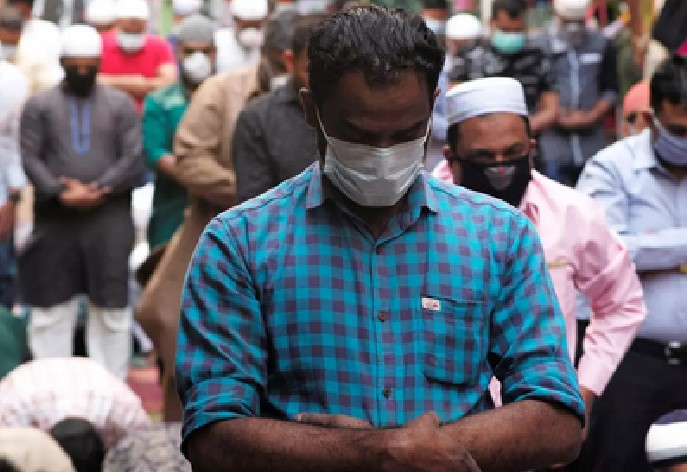face_with_mask: (298, 10, 446, 209), (451, 79, 532, 209), (648, 56, 685, 170), (56, 22, 101, 95), (172, 16, 218, 83), (224, 0, 273, 52), (483, 3, 530, 55), (548, 0, 599, 47), (108, 1, 154, 53)
